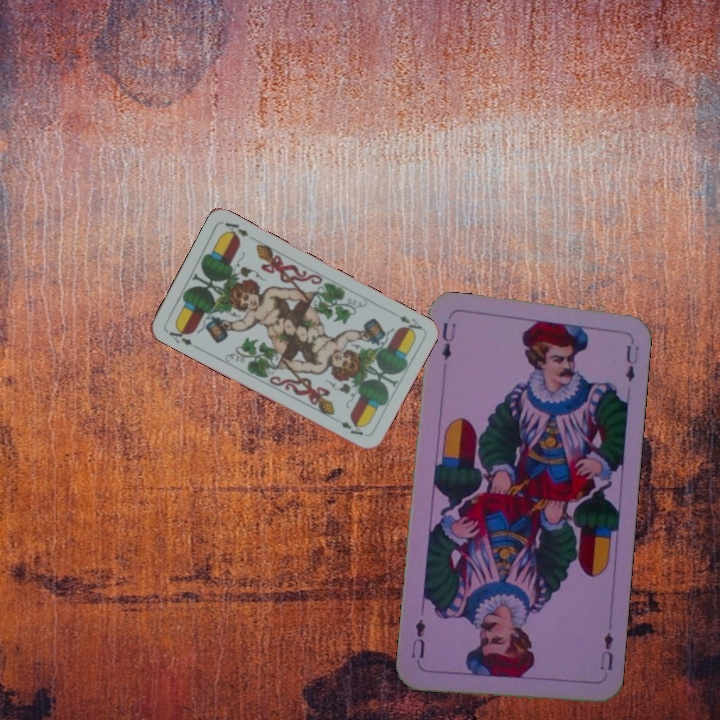EA: (387, 307, 425, 336), (165, 322, 195, 348)
EU: (437, 318, 458, 363), (596, 628, 616, 673)
